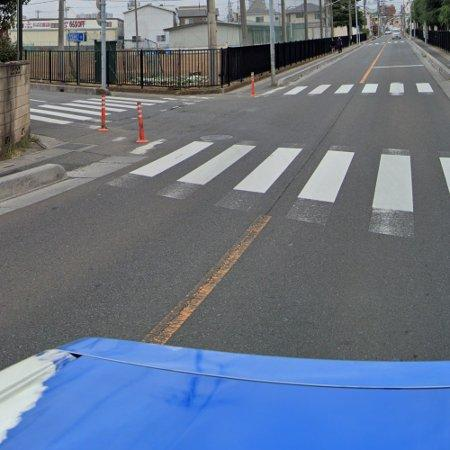crosswalks: (21, 92, 172, 131)
